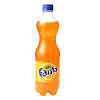fanta_bottle: (34, 3, 60, 96)
